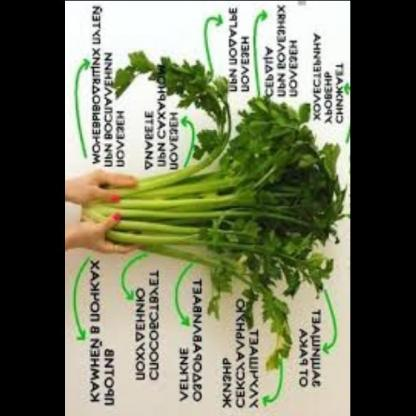celery: (82, 93, 348, 318), (105, 48, 233, 122), (244, 242, 295, 374)
